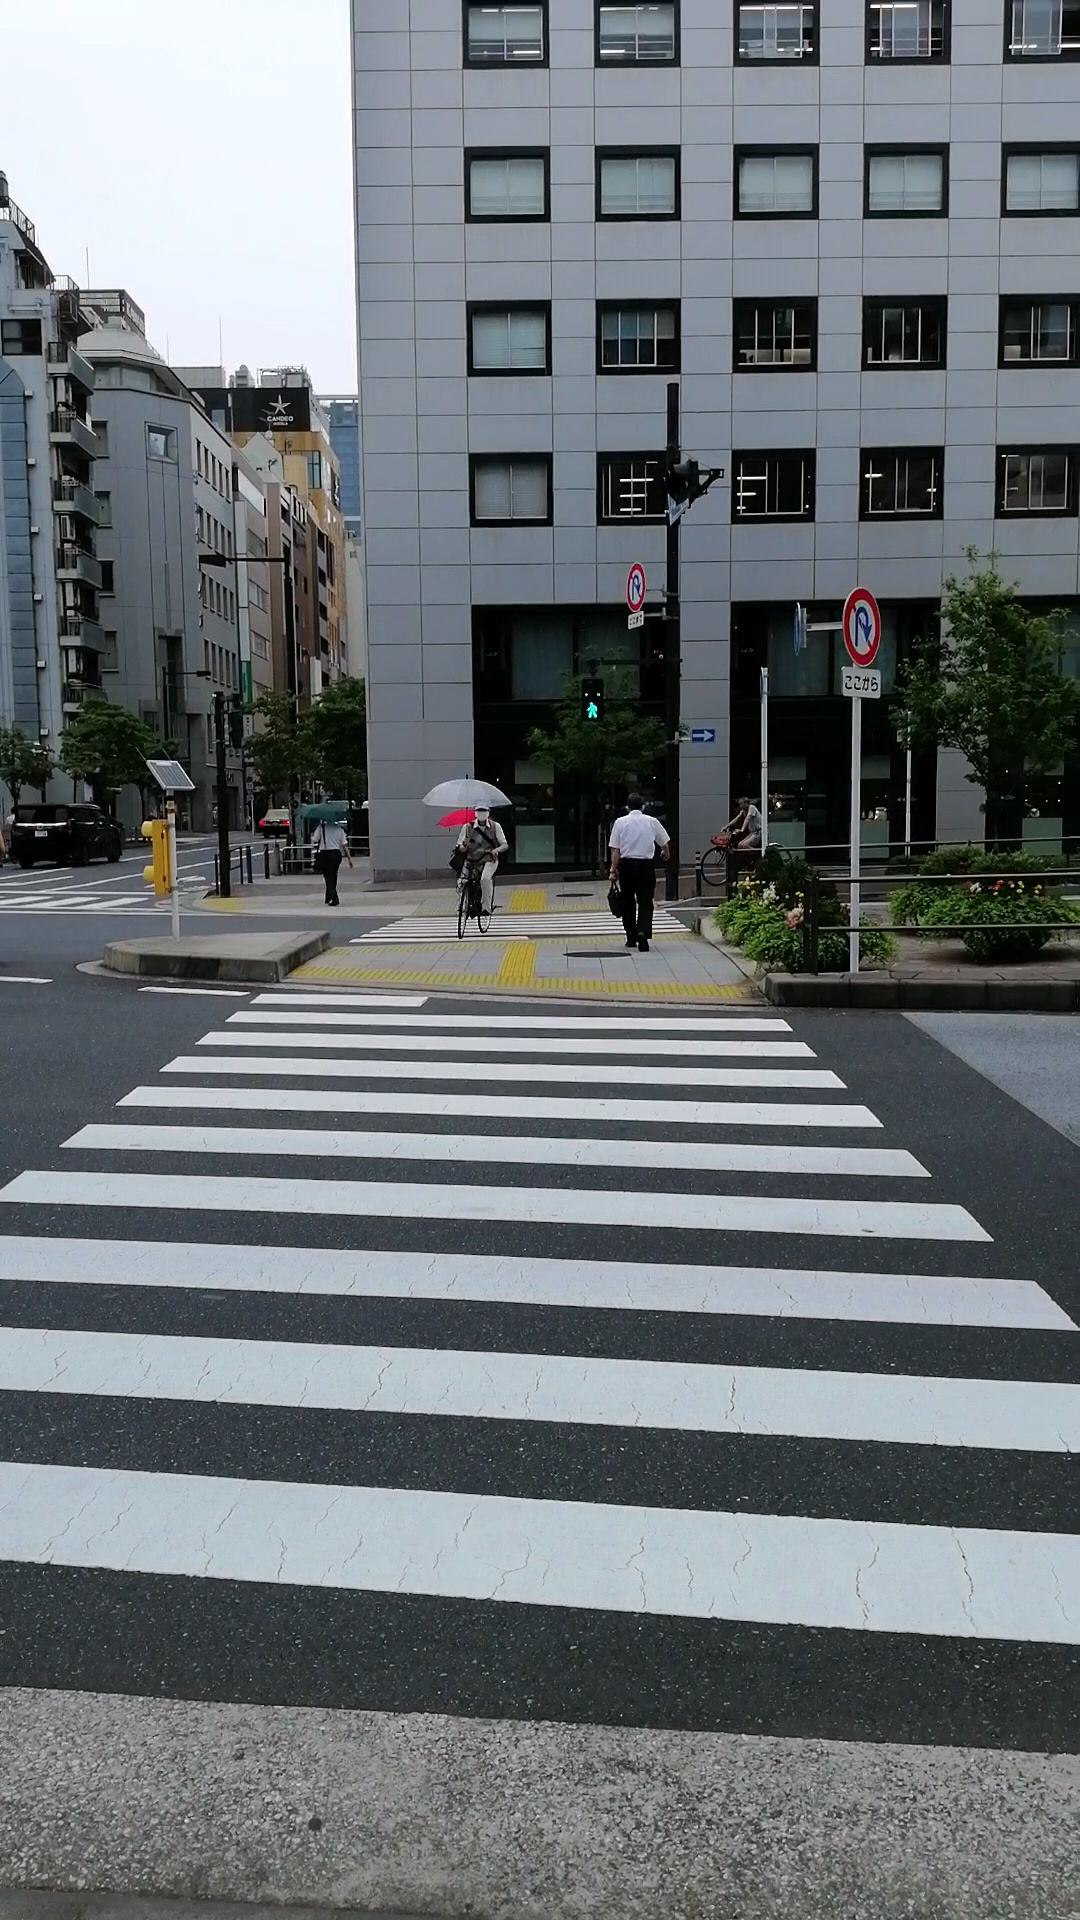green: (579, 675, 604, 723)
